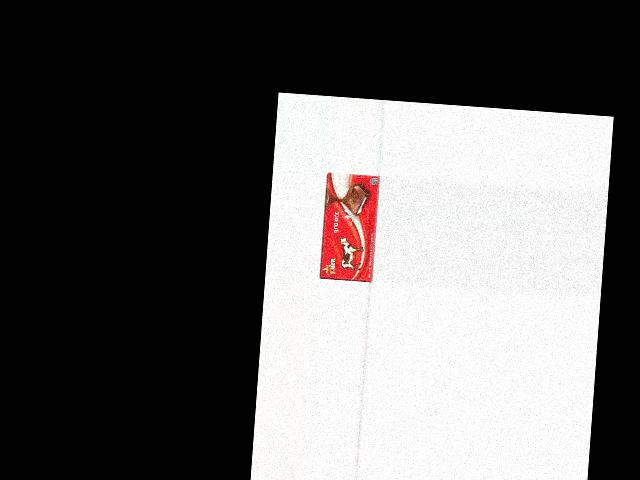chocolate: (319, 172, 380, 284)
